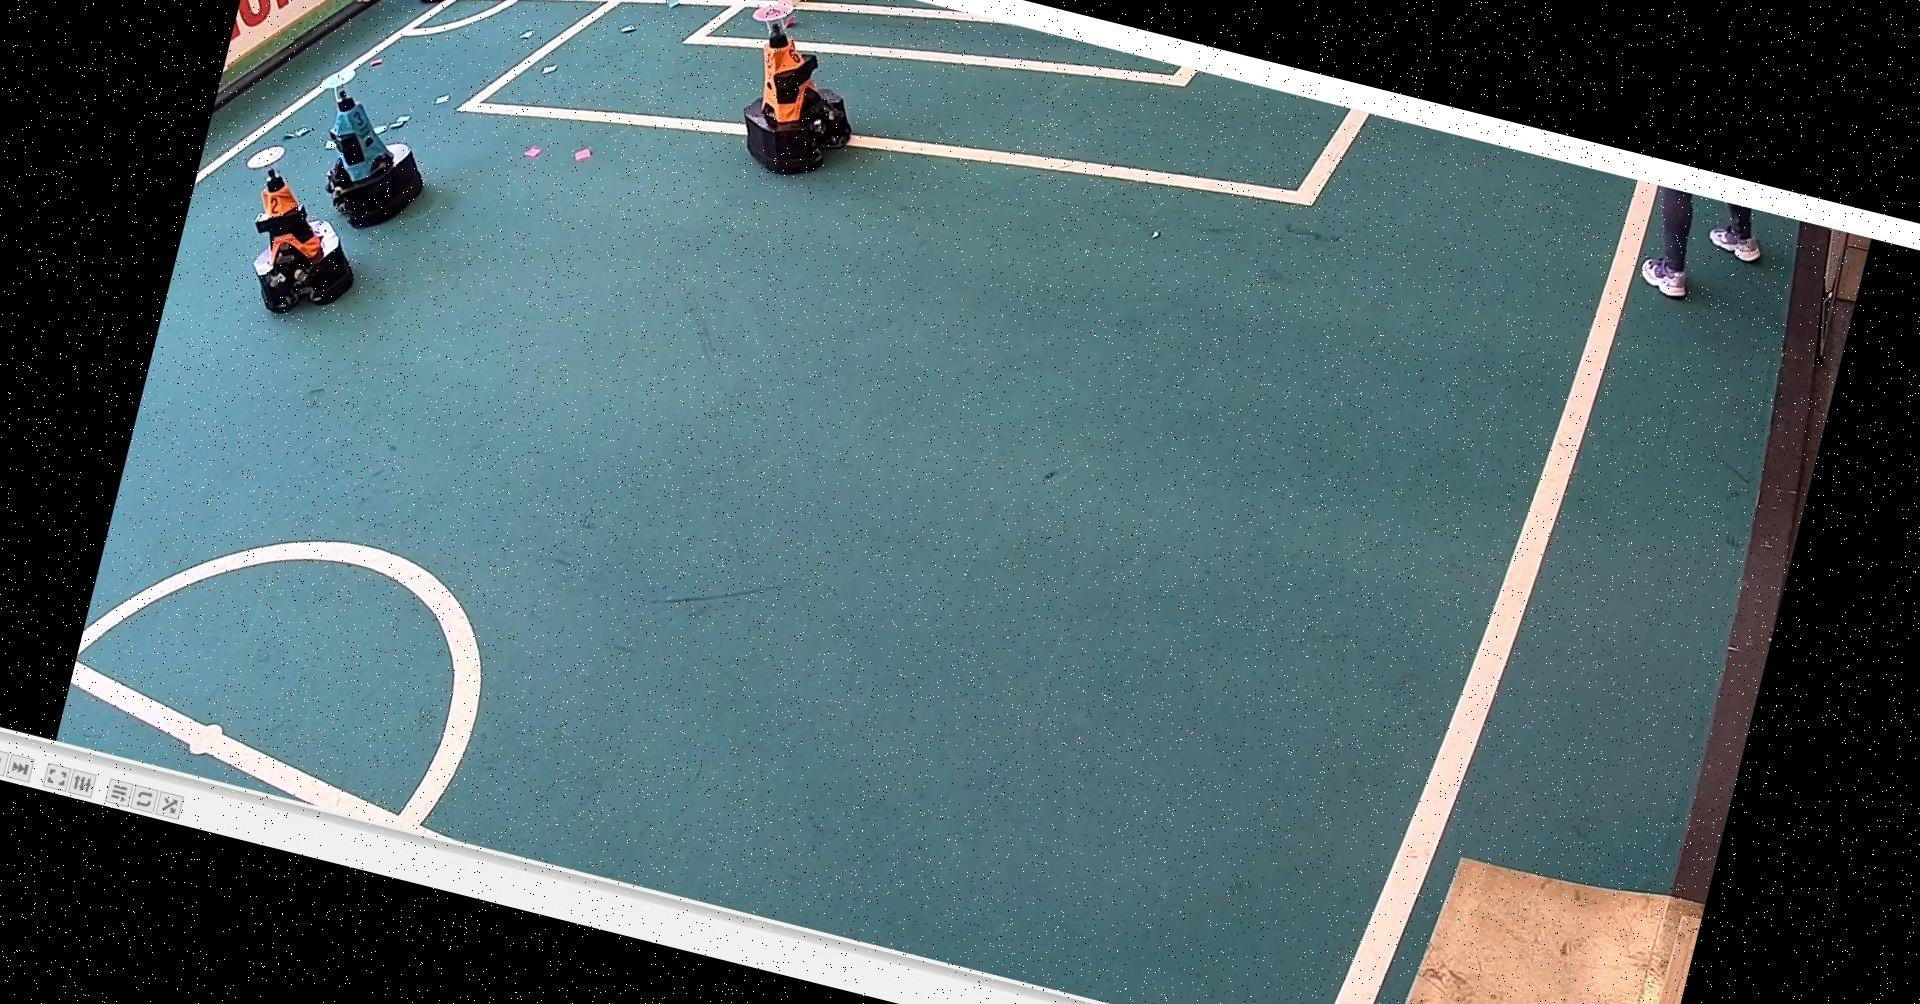Team_Blue: (291, 58, 450, 245)
Team_Red: (207, 135, 381, 339), (712, 0, 883, 194)
